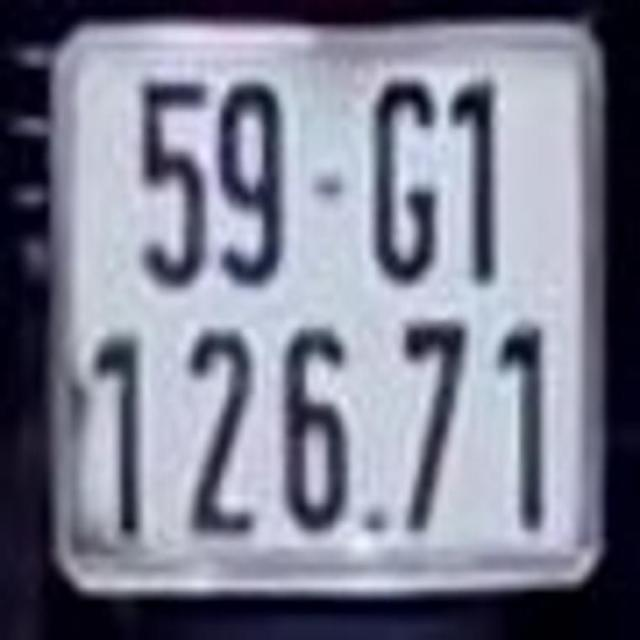1: (450, 76, 506, 287), (92, 330, 146, 536), (498, 322, 545, 530)
2: (184, 329, 256, 529)
5: (134, 75, 206, 288)
6: (278, 320, 349, 535)
7: (390, 310, 470, 534)
9: (212, 77, 286, 280)
G: (366, 68, 444, 279)
